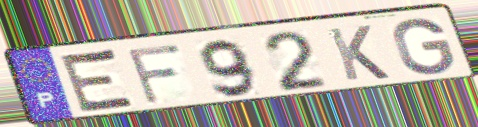2: (261, 29, 330, 94)
9: (196, 36, 261, 99)
E: (57, 47, 141, 116)
F: (124, 41, 186, 107)
G: (391, 17, 458, 77)
K: (324, 23, 393, 83)
